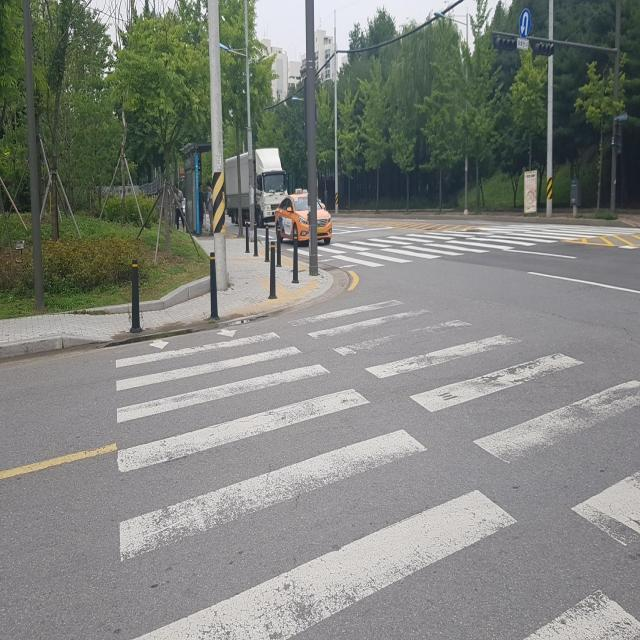횡단보도: (114, 297, 640, 639), (300, 223, 609, 269)
